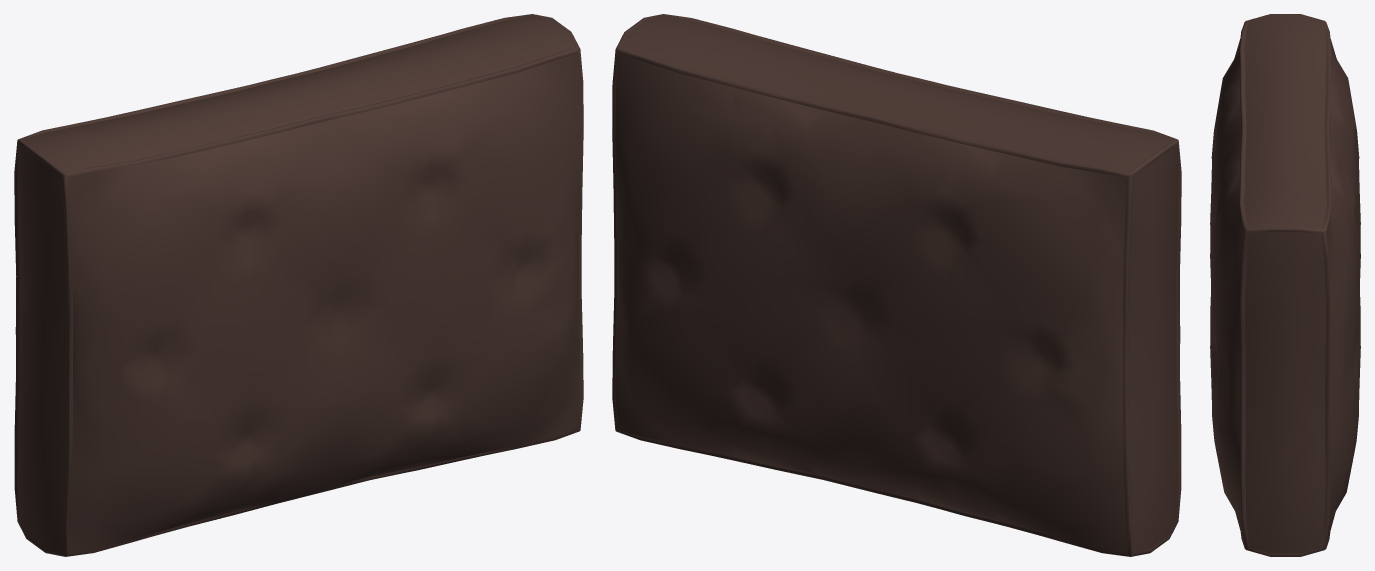
Rendered from MeshPillow_16_0.obj.
3 views of the same model, side by side, from view 1: azimuth 30°, elevation 25°; view 2: azimuth 150°, elevation 25°; view 3: azimuth 270°, elevation 25° (orthographic). The views are drawn at different scales.
Visible parts, largest first — view 1: Pillow_16; view 2: Pillow_16; view 3: Pillow_16.
Boxes of the visible parts, <box> form: Pillow_16: <box>14,14,583,556</box>; Pillow_16: <box>612,14,1181,556</box>; Pillow_16: <box>1210,14,1360,556</box>.
Size of the model in its own units: 0.4521 by 0.3236 by 0.1334.
